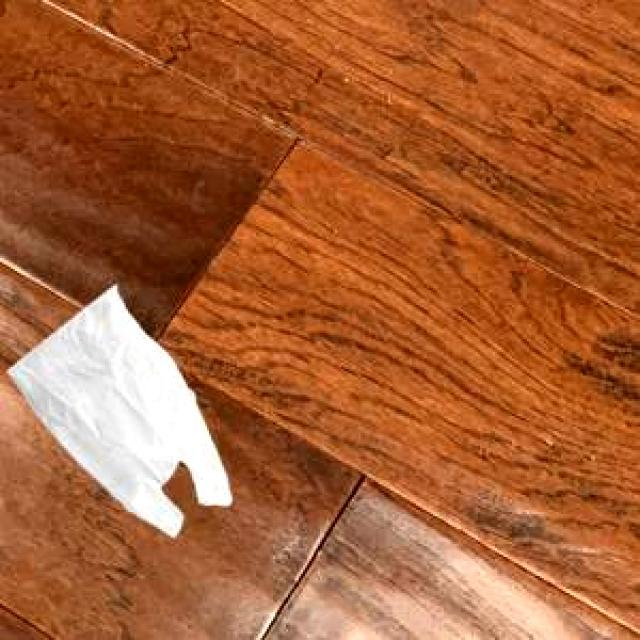Plastic_Bag: (6, 282, 228, 532)
